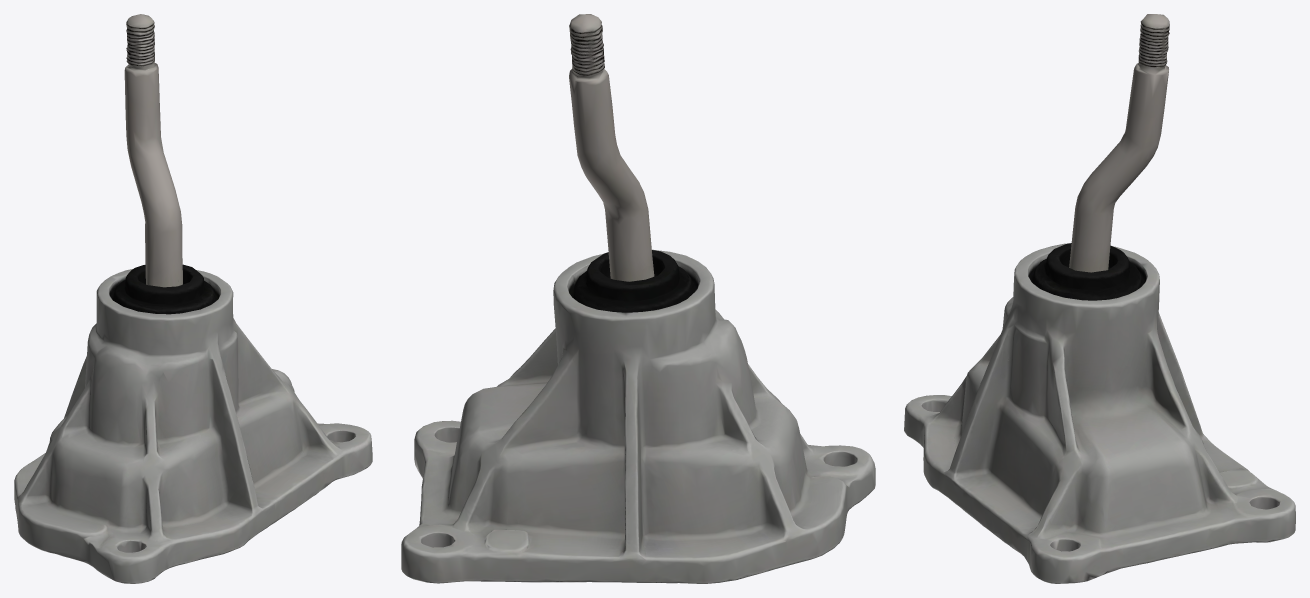
Rendered from m-t-gearshift-control.glb.
The picture shows the model from 3 angles, left to right: view 1: azimuth 30°, elevation 25°; view 2: azimuth 150°, elevation 25°; view 3: azimuth 270°, elevation 25°; orthographic projection. The views are drawn at different scales.
Visible parts, largest first — view 1: tripo_node_54d8f2ff-07a9-4687-8bbf-081be76d99ad; view 2: tripo_node_54d8f2ff-07a9-4687-8bbf-081be76d99ad; view 3: tripo_node_54d8f2ff-07a9-4687-8bbf-081be76d99ad.
Part boxes in pixels (x1=…): tripo_node_54d8f2ff-07a9-4687-8bbf-081be76d99ad: x1=14, y1=14, x2=372, y2=583; tripo_node_54d8f2ff-07a9-4687-8bbf-081be76d99ad: x1=401, y1=14, x2=875, y2=583; tripo_node_54d8f2ff-07a9-4687-8bbf-081be76d99ad: x1=904, y1=14, x2=1295, y2=583.
Bounding box in the file's own units: 0.8019 × 1 × 0.7439.
Materials: 1 (1 with a texture image).
